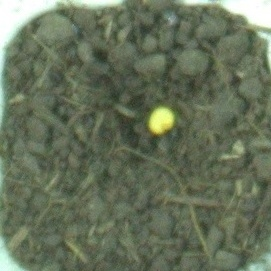pepper seed: (58, 37, 235, 174)
